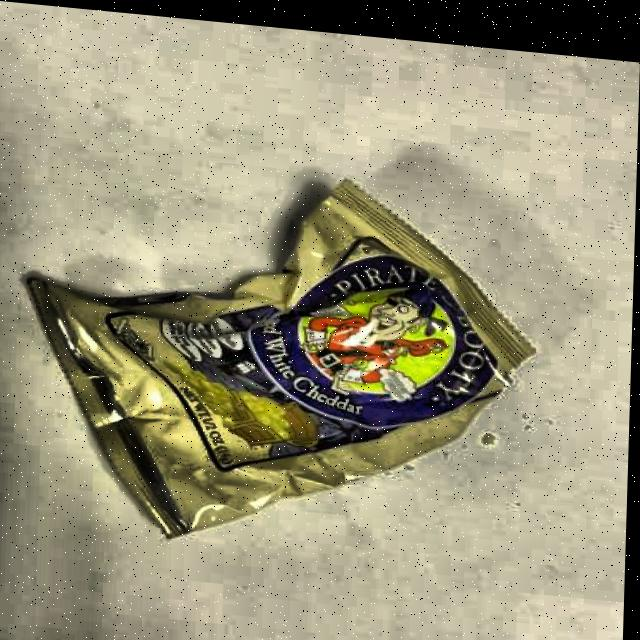plastic: (7, 138, 553, 590)
